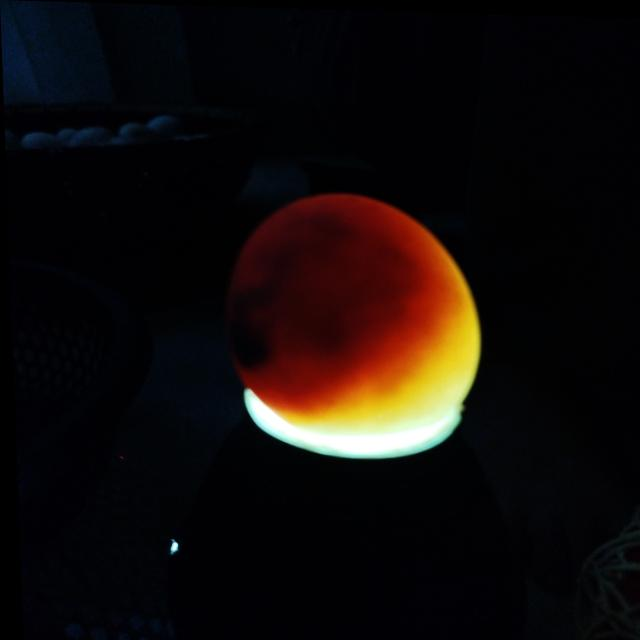Area Infectada: (220, 208, 405, 373)
